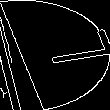L_W: (10, 34, 100, 76)
